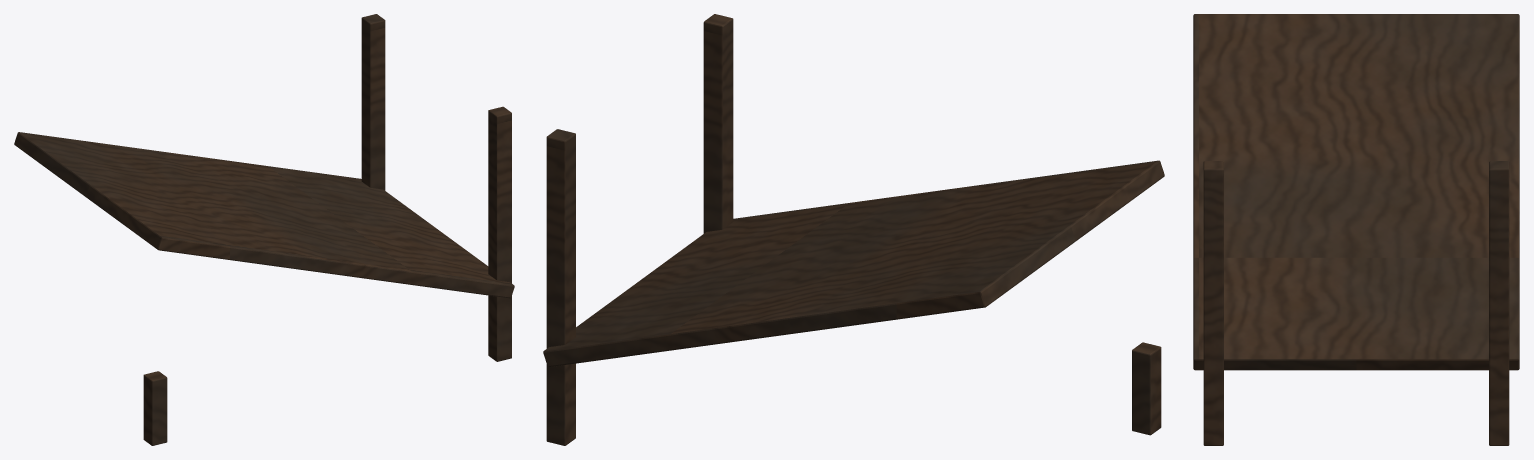
The model's file is BR02_broken_table_v1.glb.
3 renders of one model, left to right at view 1: azimuth 30°, elevation 25°; view 2: azimuth 150°, elevation 25°; view 3: azimuth 270°, elevation 25°, orthographic. The views are drawn at different scales.
Parts seen in each view (by area): view 1: BR02_broken_table_v1; view 2: BR02_broken_table_v1; view 3: BR02_broken_table_v1.
Part boxes in pixels (left/top/right/bottom): BR02_broken_table_v1: left=14, top=14, right=514, bottom=445; BR02_broken_table_v1: left=543, top=14, right=1164, bottom=445; BR02_broken_table_v1: left=1193, top=14, right=1519, bottom=445.
Size of the model in its own units: 1.2 by 0.7826 by 0.8348.
Materials: 1 (1 with a texture image).
